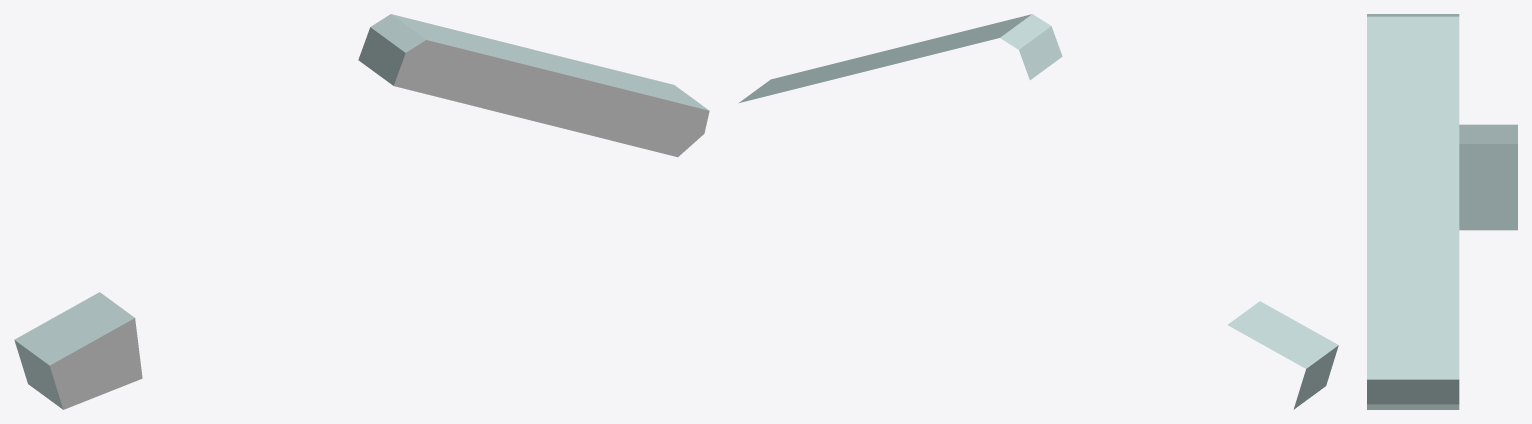
3 views of the same model, side by side, from view 1: azimuth 30°, elevation 25°; view 2: azimuth 150°, elevation 25°; view 3: azimuth 270°, elevation 25° (orthographic). The views are drawn at different scales.
Visible parts, largest first — view 1: 0_2_2_3_2_3_1_2_3; view 2: 0_2_2_3_2_3_1_2_3; view 3: 0_2_2_3_2_3_1_2_3.
Part boxes in pixels (x1,y1,x2,y2): 0_2_2_3_2_3_1_2_3: (14,14,709,409); 0_2_2_3_2_3_1_2_3: (738,14,1338,409); 0_2_2_3_2_3_1_2_3: (1367,14,1517,409).
Bounding box in the file's own units: 31.18 × 14.18 × 4.9.
